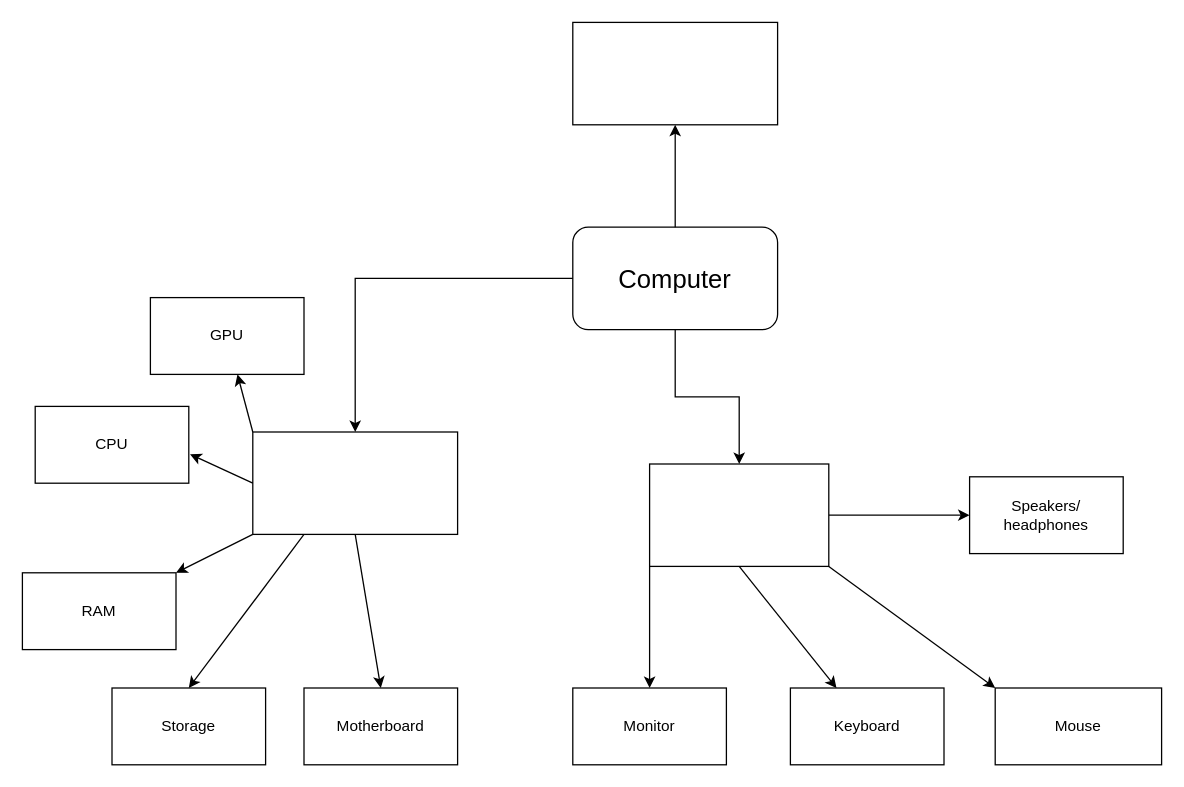
Image size: 1184x787. Some labels were removed from this diagram. The centre of each missing label's shape, as x and y in pixels:
"Hardware" goes at (x=355, y=482).
"Peripherals" goes at (x=738, y=514).
"Software" goes at (x=675, y=73).
